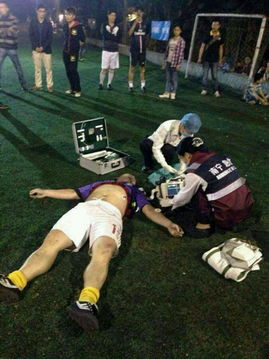10+: (1, 1, 268, 337)
down: (1, 166, 189, 345)
